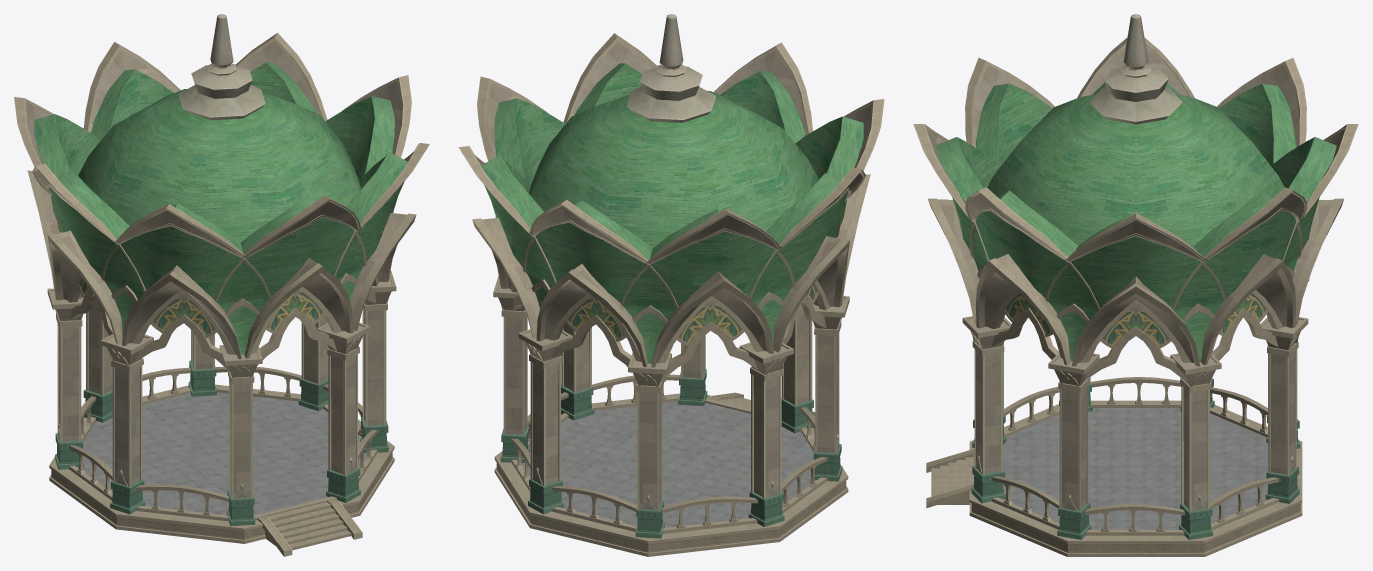
File: Homeworld_Exterior_Xm_Build_Tingyuan_01_Lod0.fbx
3 renders of one model, left to right at view 1: azimuth 30°, elevation 25°; view 2: azimuth 150°, elevation 25°; view 3: azimuth 270°, elevation 25°, orthographic. The views are drawn at different scales.
Parts seen in each view (by area): view 1: Area_Xm_Build_DCL_Comp_TiangYuan_01_Lod0 (×4), Area_Xm_Build_DCL_Comp_TiangYuan_02_Lod0; view 2: Area_Xm_Build_DCL_Comp_TiangYuan_01_Lod0 (×4), Area_Xm_Build_DCL_Comp_TiangYuan_02_Lod0; view 3: Area_Xm_Build_DCL_Comp_TiangYuan_01_Lod0 (×4), Area_Xm_Build_DCL_Comp_TiangYuan_02_Lod0.
Part boxes in pixels (x1=…): Area_Xm_Build_DCL_Comp_TiangYuan_01_Lod0 (×4): x1=14, y1=14, x2=429, y2=526; Area_Xm_Build_DCL_Comp_TiangYuan_02_Lod0: x1=49, y1=366, x2=394, y2=556; Area_Xm_Build_DCL_Comp_TiangYuan_01_Lod0 (×4): x1=459, y1=14, x2=884, y2=538; Area_Xm_Build_DCL_Comp_TiangYuan_02_Lod0: x1=494, y1=374, x2=848, y2=556; Area_Xm_Build_DCL_Comp_TiangYuan_01_Lod0 (×4): x1=913, y1=14, x2=1358, y2=540; Area_Xm_Build_DCL_Comp_TiangYuan_02_Lod0: x1=926, y1=377, x2=1302, y2=556.
Size of the model in its own units: 19.4 by 22.83 by 19.4.
